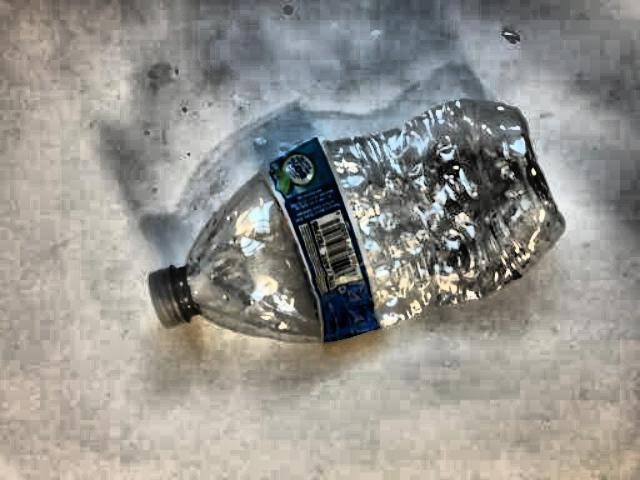Bottles: (128, 86, 567, 372)
